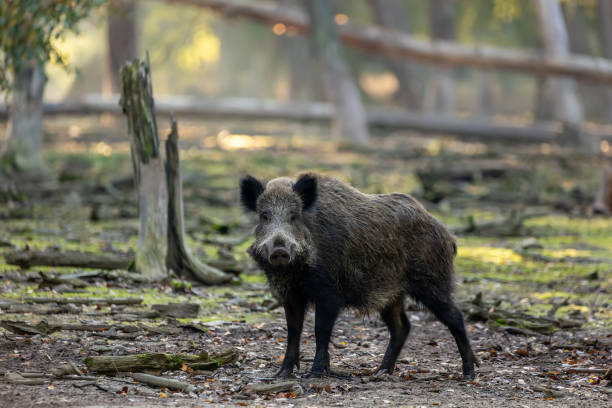pig: (240, 160, 478, 390)
